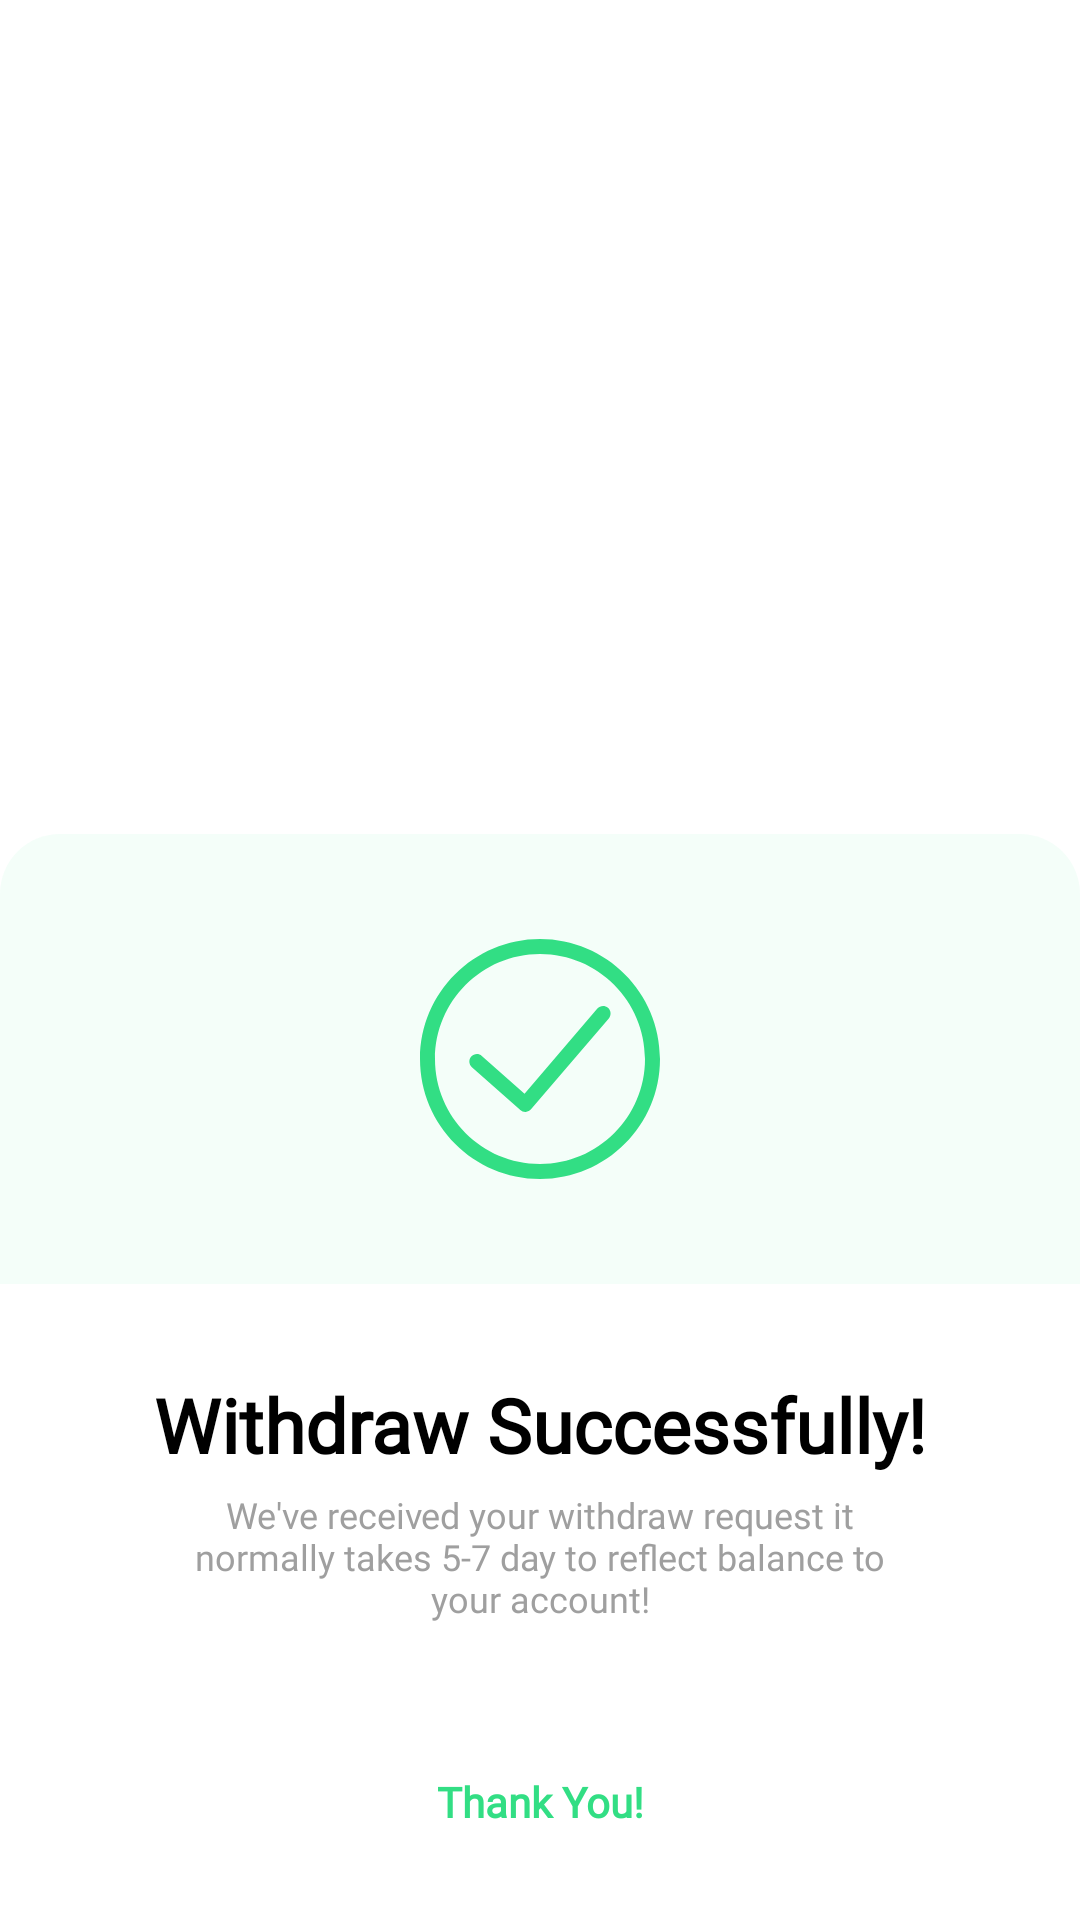

Named icons in this screenshot (1080*1920) and their bounding boxes, box(x1, y1, x2, y2):
tick: box(420, 939, 660, 1179)
